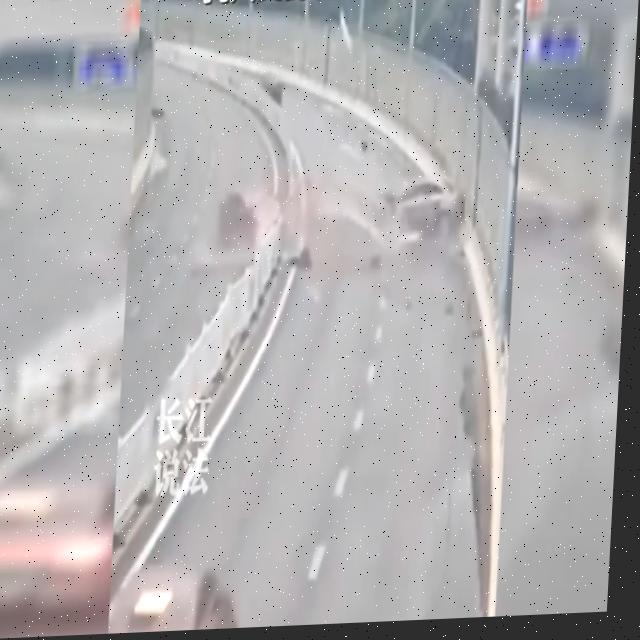single accident: (352, 152, 477, 285)
